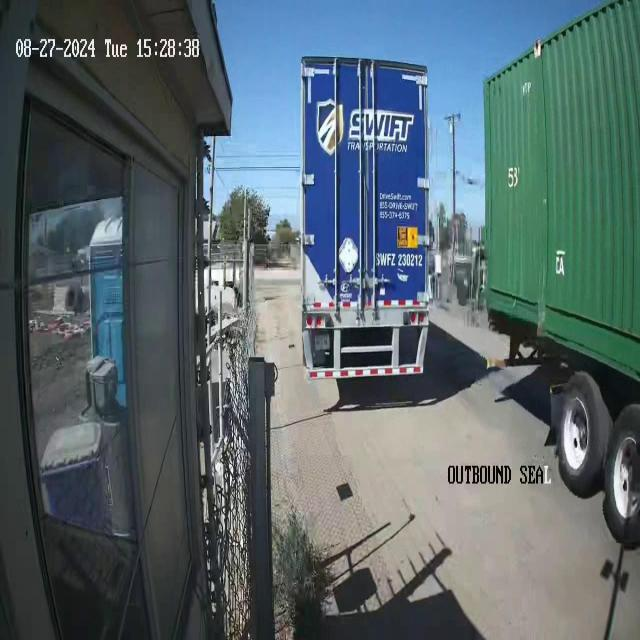TRUCK_IN: (480, 0, 640, 529)
TRUCK_OUT: (296, 50, 436, 394)
